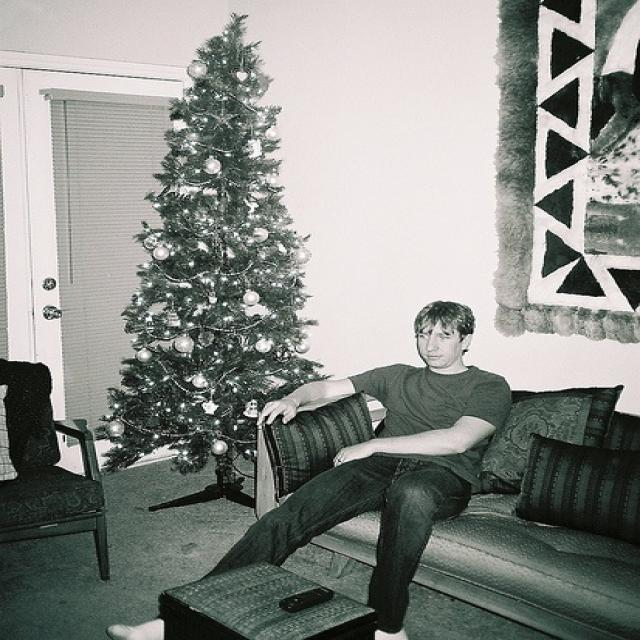chair: (0, 356, 115, 585)
sofa: (251, 388, 638, 639)
